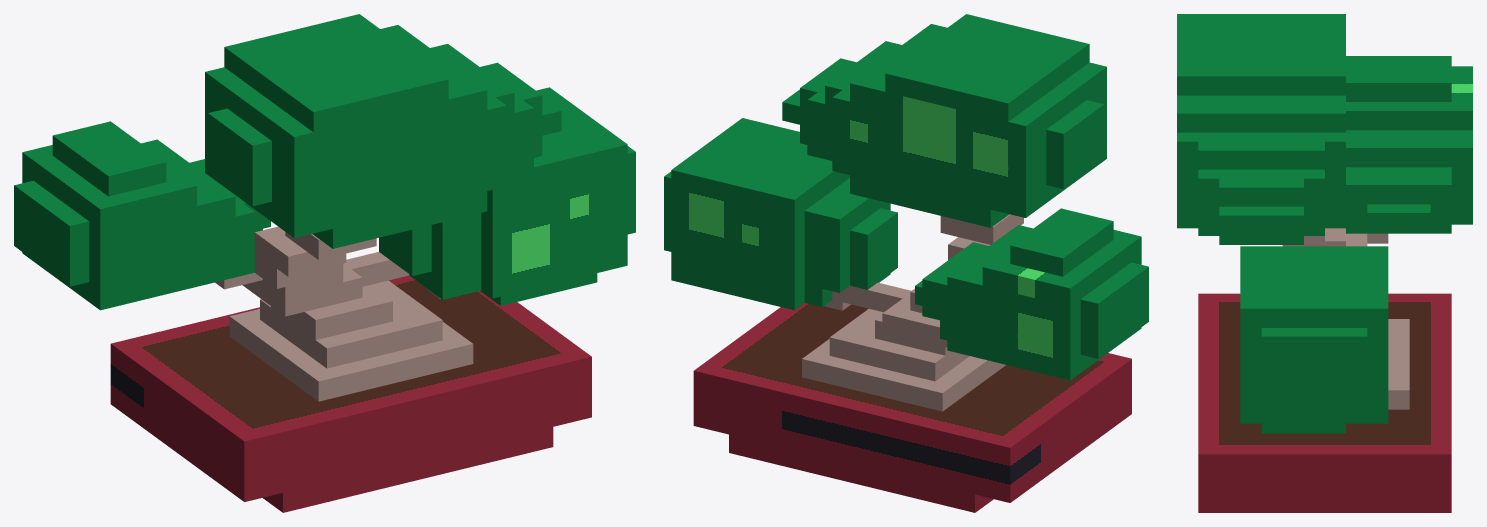
Rendered from Bonsai.gltf.
3 renders of one model, left to right at view 1: azimuth 30°, elevation 25°; view 2: azimuth 150°, elevation 25°; view 3: azimuth 270°, elevation 25°, orthographic. The views are drawn at different scales.
Parts seen in each view (by area): view 1: tree-Local, pot-Local; view 2: tree-Local, pot-Local; view 3: tree-Local, pot-Local.
Part boxes in pixels (x1,y1,x2,y2): tree-Local: [14, 14, 635, 401]; pot-Local: [110, 275, 591, 512]; tree-Local: [664, 14, 1148, 411]; pot-Local: [693, 303, 1131, 512]; tree-Local: [1177, 14, 1472, 433]; pot-Local: [1198, 293, 1451, 512].
Size of the model in its own units: 27 by 20 by 14.
Materials: 2 (2 with a texture image).
